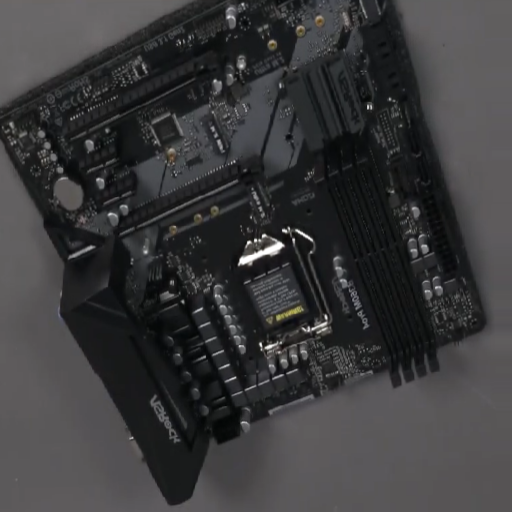CPU: (233, 234, 334, 352)
GPU: (63, 48, 220, 141), (117, 154, 264, 242)
MOTHERBOARD: (1, 5, 487, 442)
RAM: (315, 143, 441, 389)
SSD: (245, 174, 275, 228), (200, 112, 233, 158)
